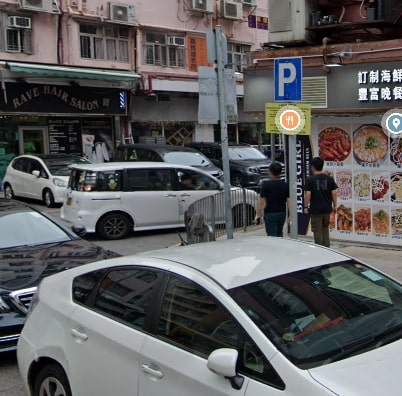Parking: (271, 56, 306, 104)
